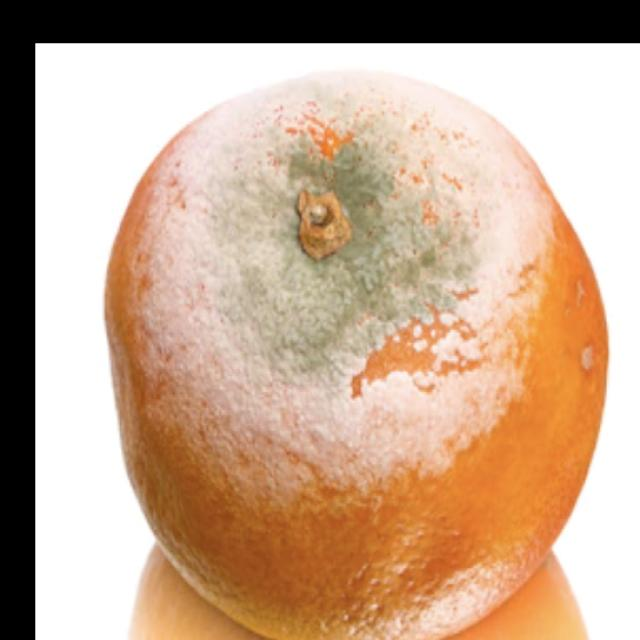sedikit_busuk: (110, 82, 608, 639)
